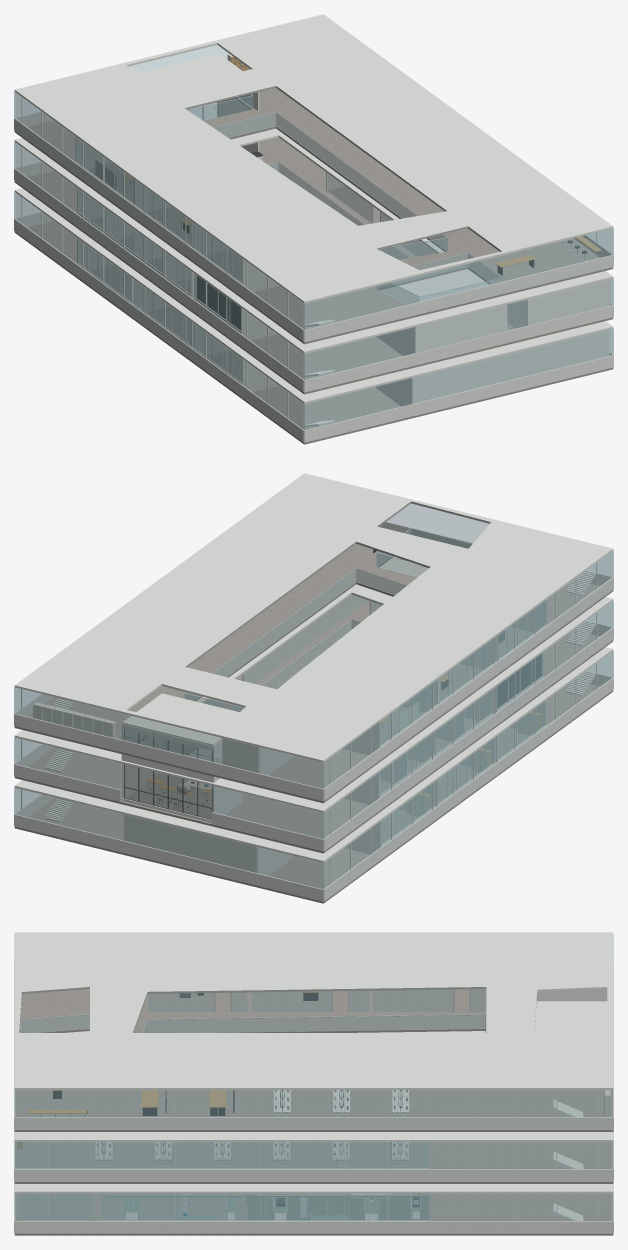
File: building.web.glb
3 renders of one model, top to bottom at view 1: azimuth 30°, elevation 25°; view 2: azimuth 150°, elevation 25°; view 3: azimuth 270°, elevation 25°, orthographic. The views are drawn at different scales.
Visible parts, largest first — view 1: Ceiling.002, Floor slab.002, Floor slab.001, Ceiling.001, Perimeter glazing.012, Perimeter glazing.011, Perimeter glazing.008, Perimeter glazing.003, Perimeter glazing.002, Perimeter glazing.007, Floor slab, Ceiling (+35 smaller); view 2: Ceiling.002, Floor slab.002, Floor slab.001, Perimeter glazing.008, Perimeter glazing.003, Perimeter glazing, Perimeter glazing.012, Perimeter glazing.009, Floor slab, Ceiling.001, Ceiling, Perimeter parapet (+39 smaller); view 3: Ceiling.002, Floor slab.002, Perimeter glazing.010, Perimeter glazing.006, Perimeter glazing.001, Floor slab.001, Floor slab, xlab window glazing, mechatronics window glazing, Perimeter parapet.001, Perimeter parapet.006, Perimeter parapet.010 (+14 smaller).
Part boxes in pixels (bbox=[...]): Ceiling.002: bbox=[14, 14, 613, 303]; Floor slab.002: bbox=[14, 88, 613, 344]; Floor slab.001: bbox=[14, 137, 613, 394]; Ceiling.001: bbox=[14, 128, 613, 353]; Perimeter glazing.012: bbox=[14, 92, 304, 337]; Perimeter glazing.011: bbox=[304, 228, 613, 334]; Perimeter glazing.008: bbox=[14, 142, 304, 379]; Perimeter glazing.003: bbox=[14, 192, 304, 431]; Perimeter glazing.002: bbox=[304, 329, 613, 430]; Perimeter glazing.007: bbox=[304, 279, 613, 380]; Floor slab: bbox=[14, 221, 613, 444]; Ceiling: bbox=[14, 188, 613, 403]; Ceiling.002: bbox=[14, 473, 613, 762]; Floor slab.002: bbox=[14, 543, 613, 803]; Floor slab.001: bbox=[14, 595, 613, 853]; Perimeter glazing.008: bbox=[323, 601, 613, 847]; Perimeter glazing.003: bbox=[323, 651, 613, 895]; Perimeter glazing: bbox=[14, 788, 323, 895]; Perimeter glazing.012: bbox=[323, 551, 613, 788]; Perimeter glazing.009: bbox=[14, 687, 323, 789]; Floor slab: bbox=[14, 681, 613, 903]; Ceiling.001: bbox=[14, 556, 613, 812]; Ceiling: bbox=[14, 647, 613, 862]; Perimeter parapet: bbox=[14, 814, 323, 901]; Ceiling.002: bbox=[14, 932, 613, 1089]; Floor slab.002: bbox=[14, 989, 613, 1131]; Perimeter glazing.010: bbox=[15, 1090, 612, 1129]; Perimeter glazing.006: bbox=[15, 1142, 612, 1180]; Perimeter glazing.001: bbox=[15, 1194, 612, 1228]; Floor slab.001: bbox=[14, 1142, 613, 1183]; Floor slab: bbox=[14, 1193, 613, 1235]; xlab window glazing: bbox=[16, 1142, 428, 1168]; mechatronics window glazing: bbox=[101, 1194, 430, 1220]; Perimeter parapet.001: bbox=[14, 1221, 613, 1233]; Perimeter parapet.006: bbox=[14, 1169, 613, 1181]; Perimeter parapet.010: bbox=[14, 1117, 613, 1129].
Bounding box in the file's own units: 26.2 × 11.54 × 42.5.
Materials: 23 (3 with a texture image).
